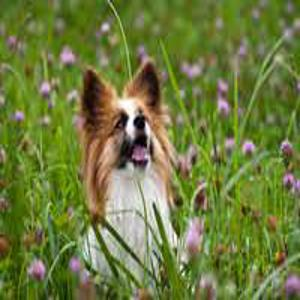yell: (77, 59, 180, 285)
